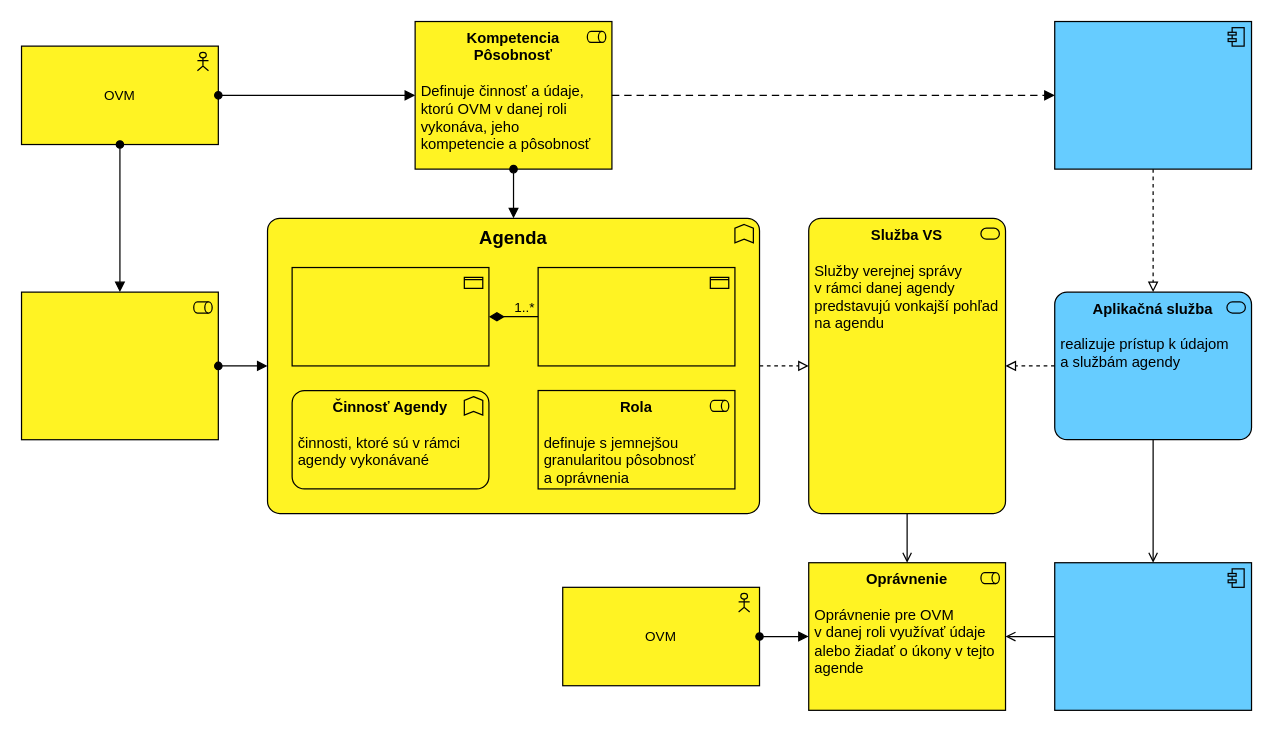
Some shapes in this 1273 by 732 pixel diagram are drawn without their labels. Here are the shapes that lost their labels. From the top down, the centre of each, then its label:
At (x=1152, y=94): "IS VS IS v ktorom OVM spravuje údaje, vykonáva svoju pôsobnosť v danej agende".
At (x=390, y=316): "Objekt evidencie Aké objekty sa evidujú v agende, napríklad auto".
At (x=636, y=316): "Údaj Aké údaje sa o objekte evidujú v agende, napríklad typ, rok výroby, ...".
At (x=119, y=365): "Garant Garantuje výkon agendy, zodpovedá za ňu, definuje činnosti, ...".
At (x=1152, y=635): "IS VS IS ktorý OVM využíva na získavanie údajov a volanie služieb cudzej agendy".
